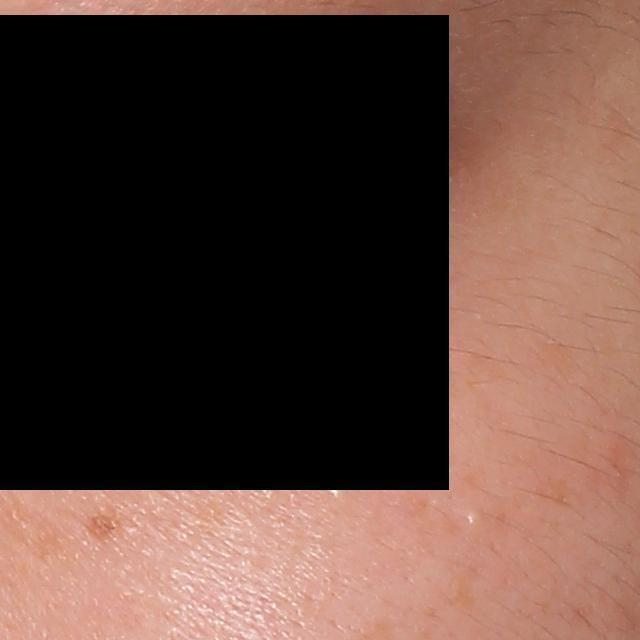melasma: (528, 312, 586, 386), (438, 560, 482, 610), (528, 477, 587, 514), (77, 503, 124, 546)
